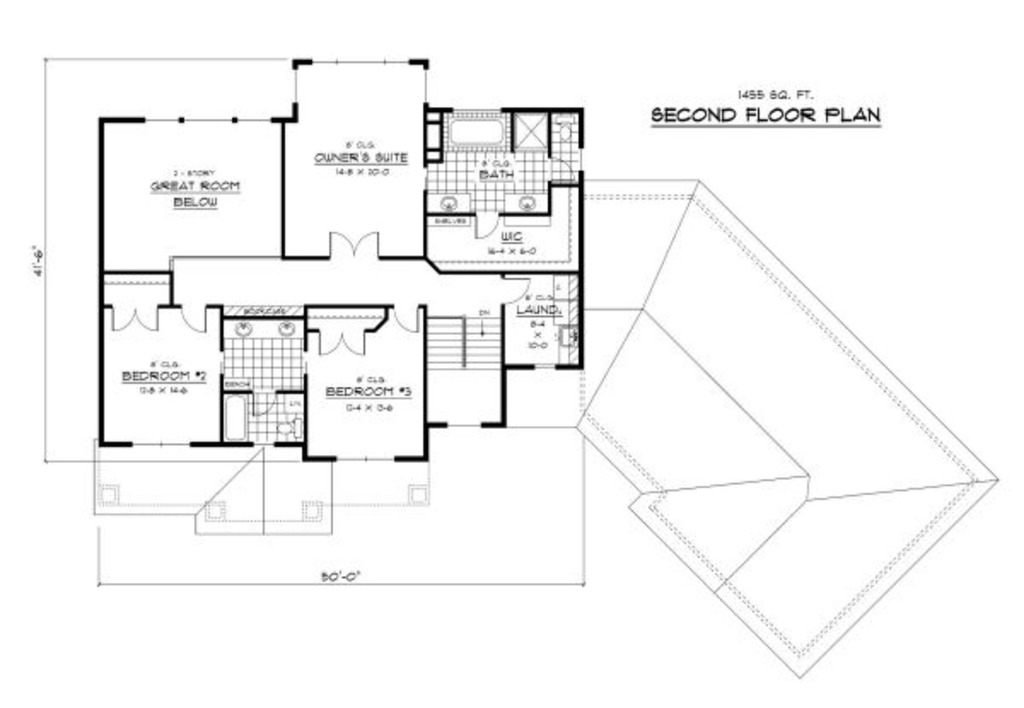door: (108, 300, 161, 336), (328, 231, 383, 260), (316, 328, 366, 358), (387, 304, 424, 336), (502, 273, 531, 308), (180, 305, 208, 333), (474, 212, 500, 241)
large_sink: (550, 113, 577, 141)
small_sink: (222, 318, 305, 341), (426, 189, 473, 216), (503, 191, 551, 214)
stairs: (426, 311, 503, 428)
tub: (440, 110, 512, 151), (223, 394, 252, 444)
windows: (141, 110, 277, 130), (307, 53, 413, 70), (121, 437, 195, 449), (325, 453, 402, 463)
